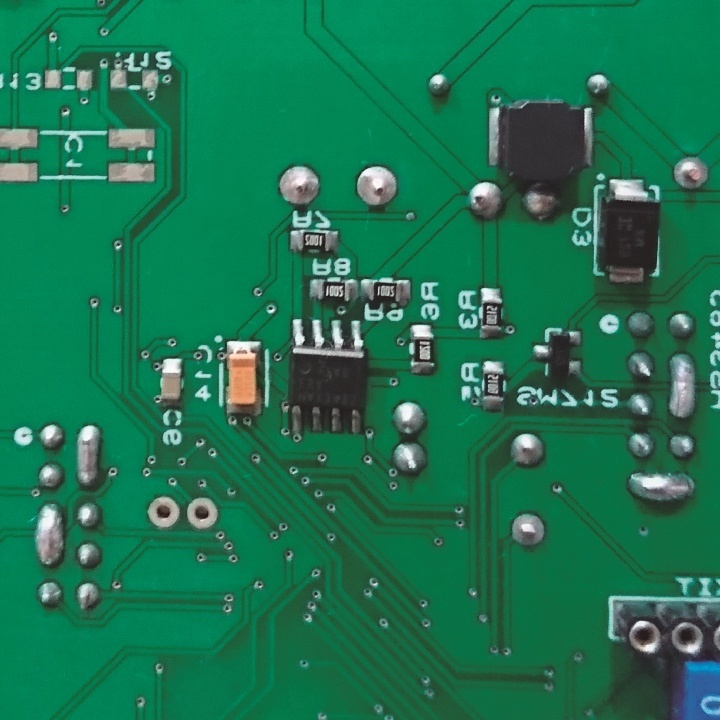F: (277, 162, 324, 207), (354, 162, 399, 209), (508, 508, 546, 552), (670, 155, 714, 193), (183, 492, 218, 535), (144, 494, 181, 532)
P: (624, 466, 702, 507), (29, 499, 67, 569), (665, 349, 699, 423), (73, 421, 104, 489)
